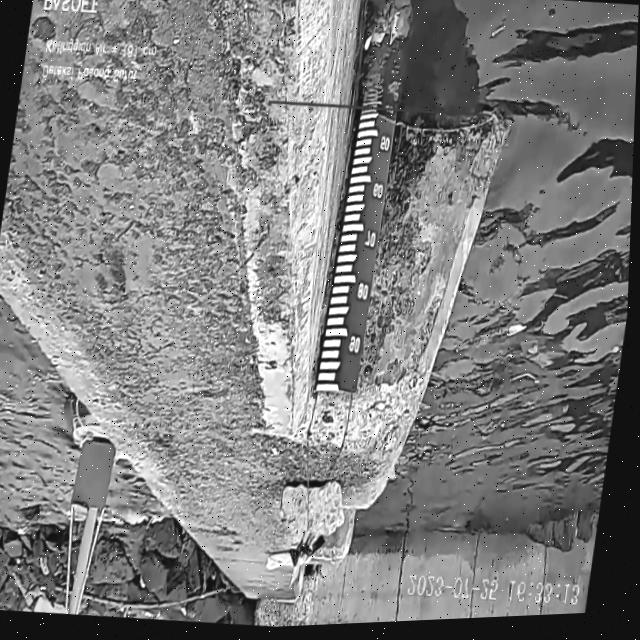water-meter: (304, 65, 411, 408)
